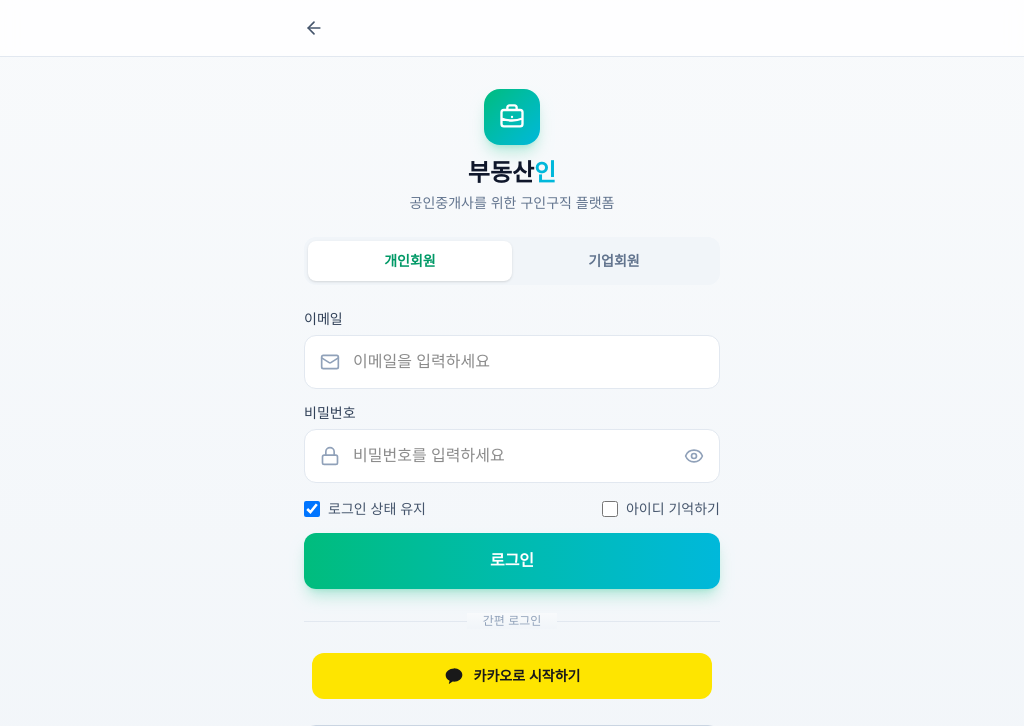
Test: existing email login STAY redirect › does not redirect when the profile check fails
Type "member@example.com" into the field with placeholder "이메일을 입력하세요". click: (512, 362)
box: [304, 335, 720, 389]
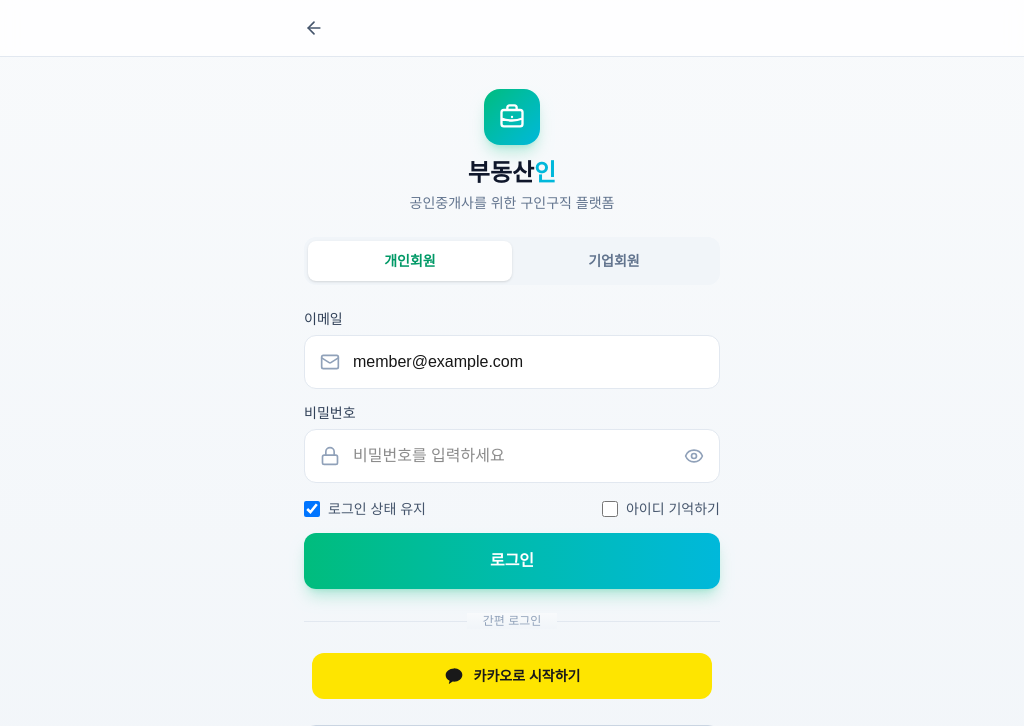
Type "safe-password" into the password field with placeholder "비밀번호를 입력하세요". click: (512, 456)
box: [304, 429, 720, 483]
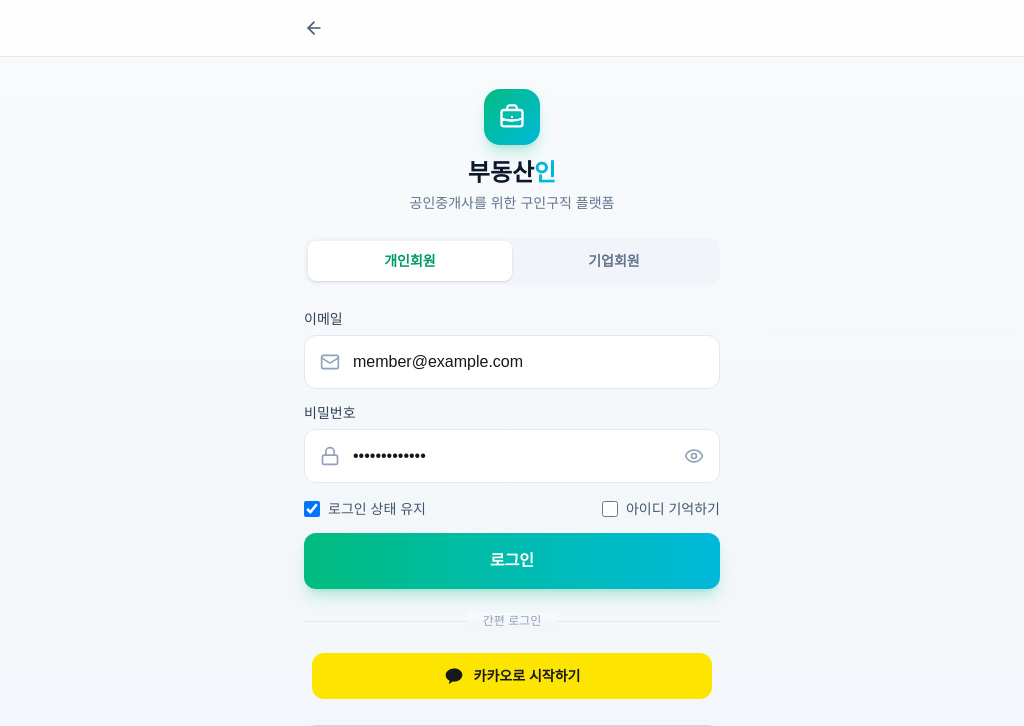
Click the button "로그인". click: (512, 561)
box: [304, 533, 720, 589]
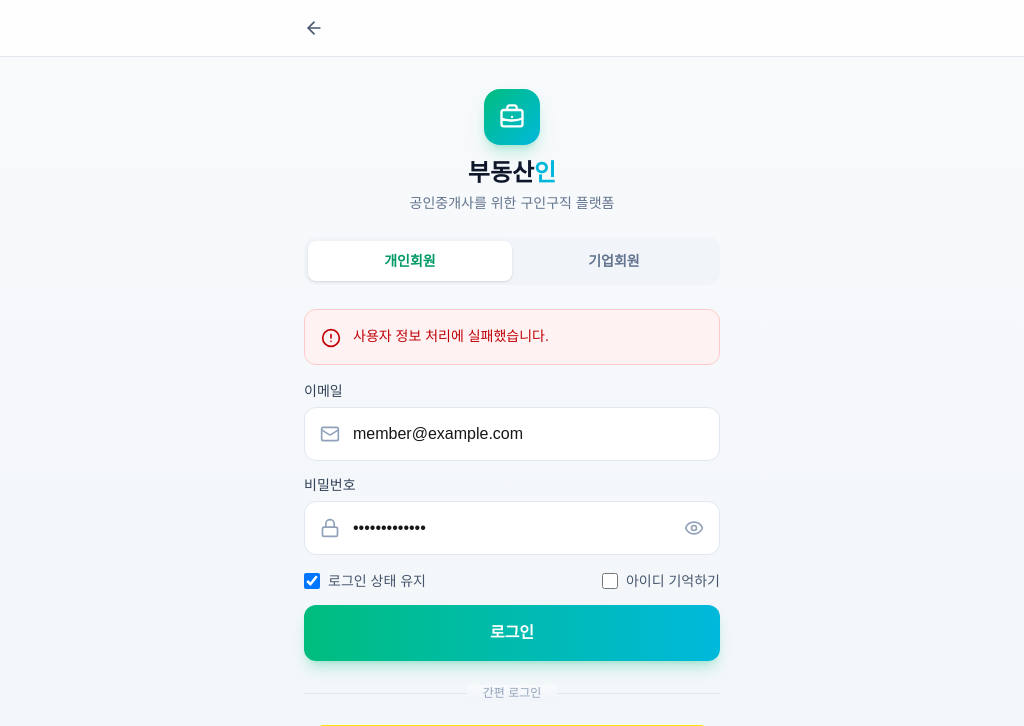
Expected: the text "사용자 정보 처리에 실패했습니다." is shown, [353, 326, 549, 346]
